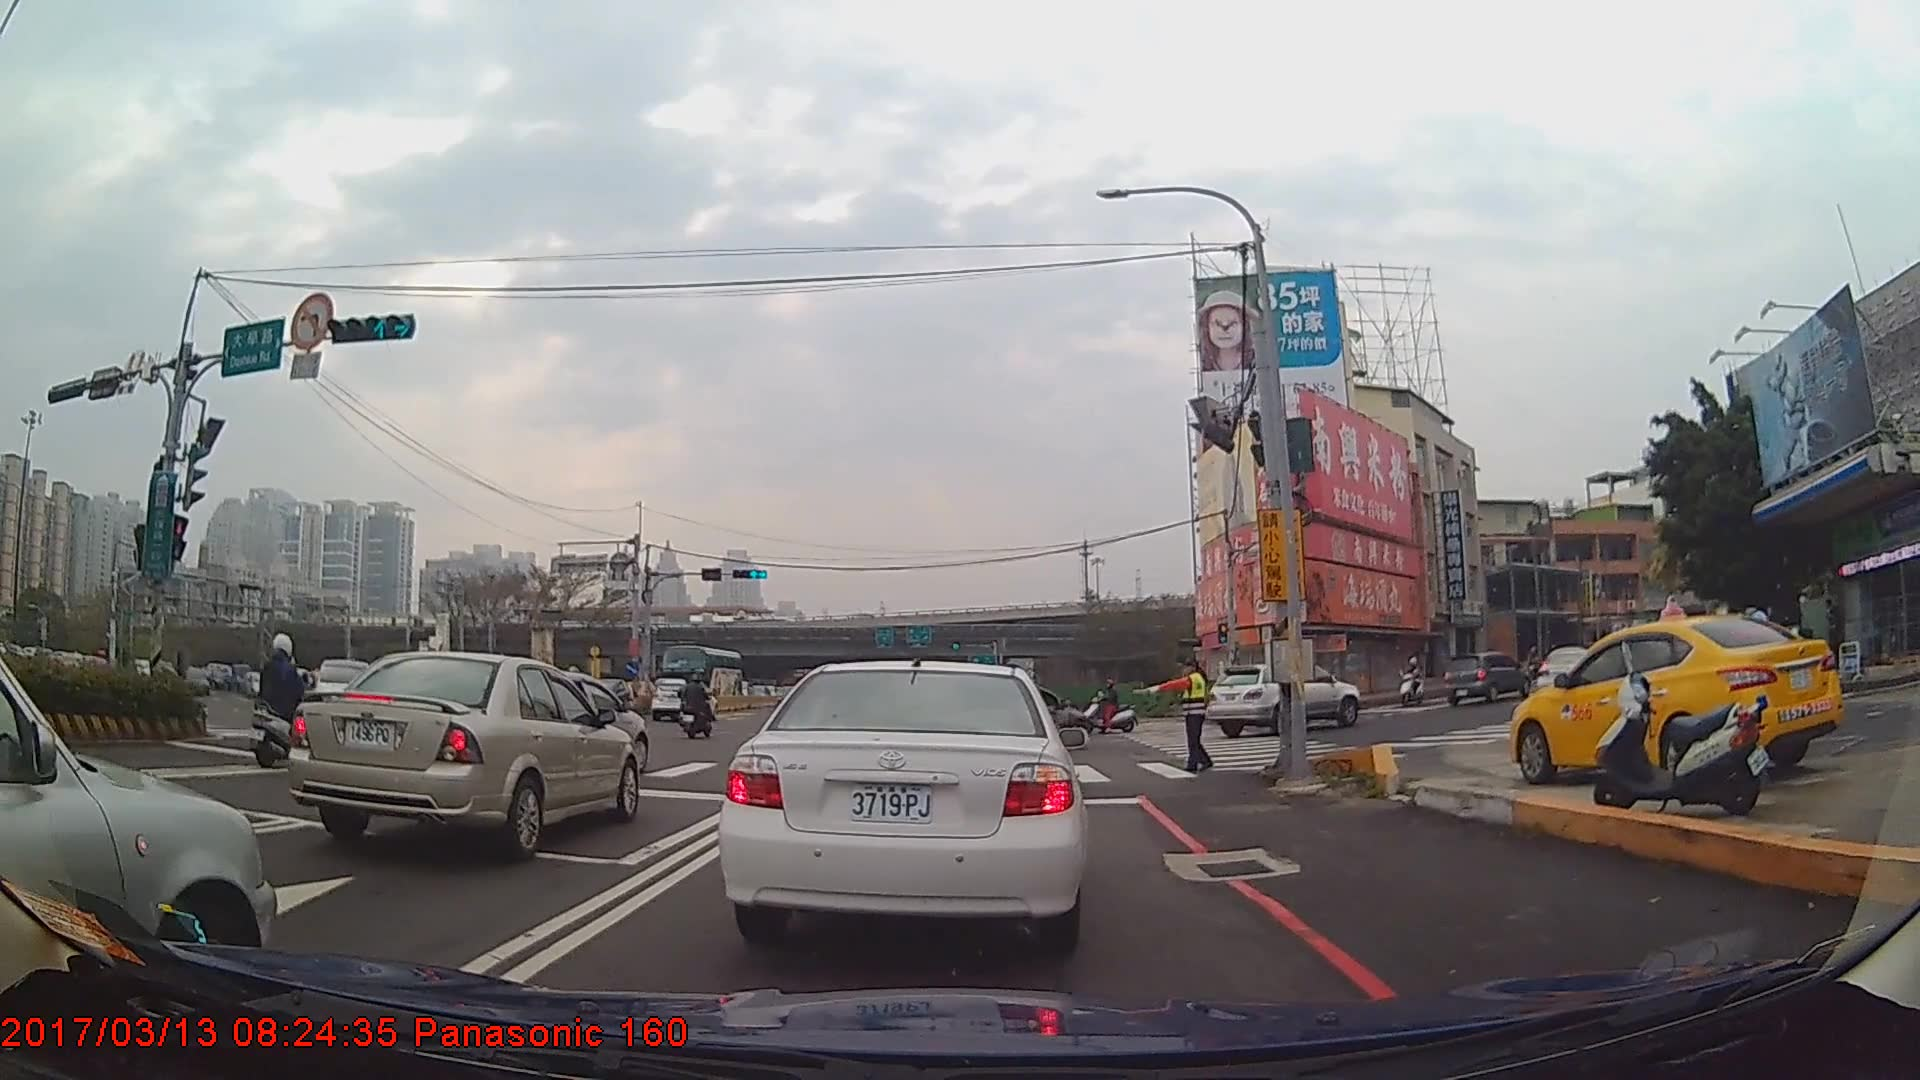pedestrian: (1132, 655, 1218, 776)
rider: (247, 629, 326, 766), (1082, 679, 1139, 734), (681, 674, 715, 739), (1399, 655, 1428, 707), (677, 677, 700, 733)
vehicle: (713, 654, 1087, 948), (0, 654, 275, 986), (290, 650, 639, 859), (1506, 608, 1840, 788), (1209, 660, 1360, 737), (1436, 650, 1526, 707), (660, 644, 742, 701), (1533, 644, 1603, 701), (649, 676, 715, 726)
